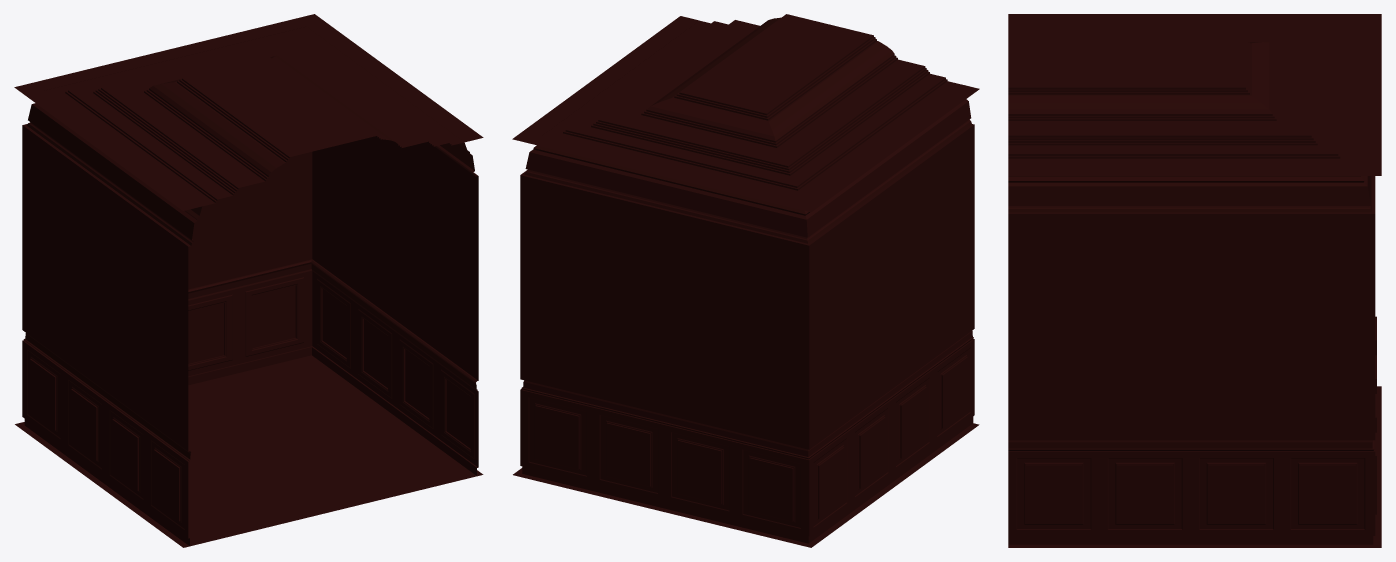
The model's file is dead_end_hallway_v1.0.FBX.
3 views of the same model, side by side, from view 1: azimuth 30°, elevation 25°; view 2: azimuth 150°, elevation 25°; view 3: azimuth 270°, elevation 25° (orthographic). The views are drawn at different scales.
Parts seen in each view (by area): view 1: hallway_dead_end; view 2: hallway_dead_end; view 3: hallway_dead_end.
Part boxes in pixels (x1=…): hallway_dead_end: x1=14, y1=14, x2=483, y2=547; hallway_dead_end: x1=512, y1=14, x2=979, y2=547; hallway_dead_end: x1=1008, y1=14, x2=1381, y2=547.
Size of the model in its own units: 165 by 161 by 192.
